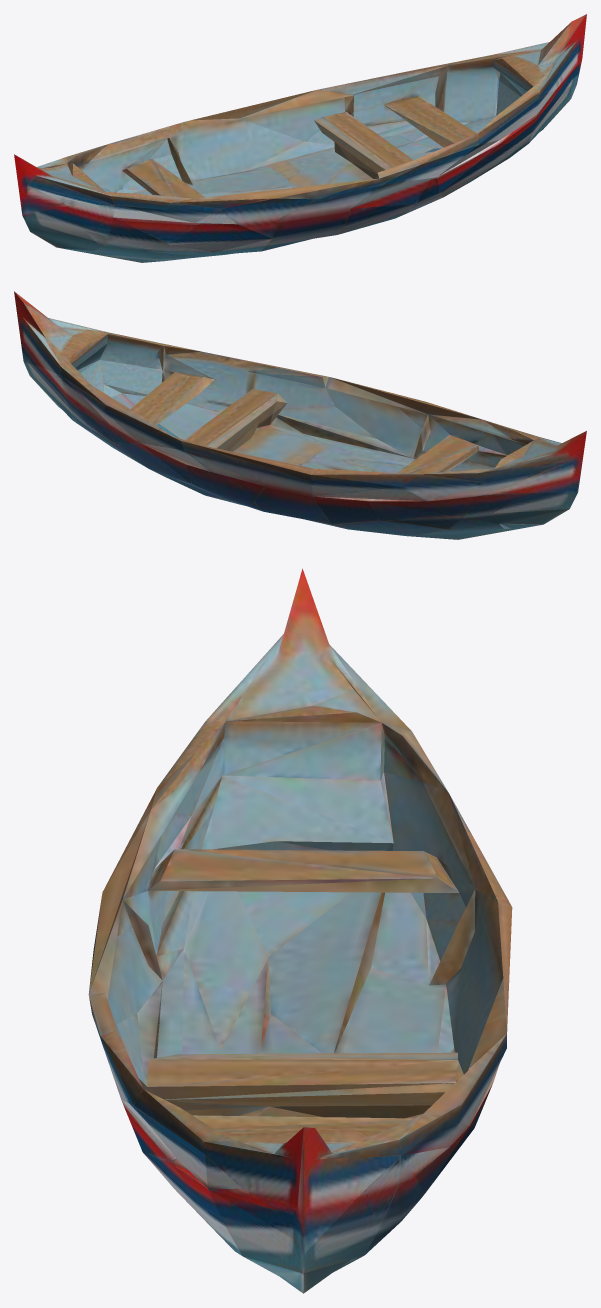
File: gommier.glb
3 renders of one model, top to bottom at view 1: azimuth 30°, elevation 25°; view 2: azimuth 150°, elevation 25°; view 3: azimuth 270°, elevation 25°, orthographic. The views are drawn at different scales.
Parts seen in each view (by area): view 1: mesh_node; view 2: mesh_node; view 3: mesh_node.
Part boxes in pixels (x1,y1,x2,y2): mesh_node: (14,14,586,262); mesh_node: (14,291,586,539); mesh_node: (88,568,512,1293).
Bounding box in the file's own units: 1.9 × 0.4811 × 0.6089.
1 material, 1 textured.
